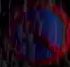No Stopping: (6, 1, 69, 64)
